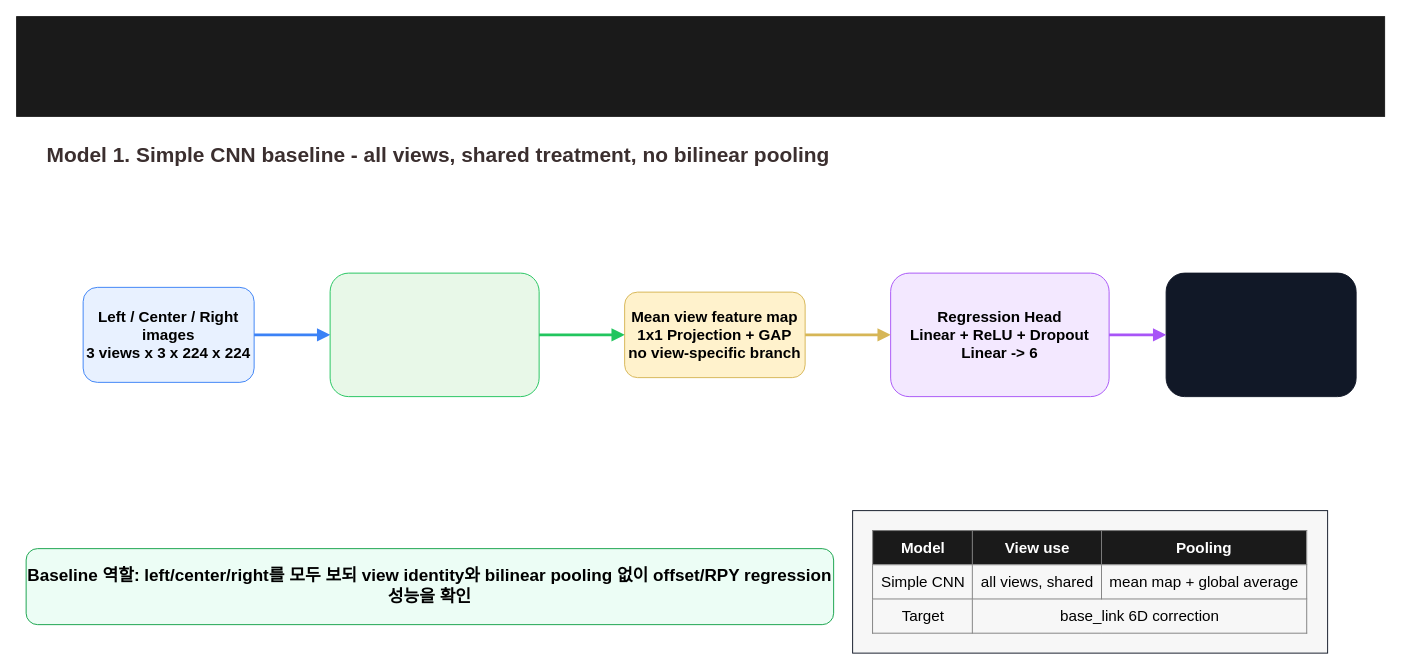
Image size: 1401x670. Some labels were removed from this diagram. The shapes that lost their labels are listed below. From the top down, each one's box as (x1, y1, x2, y2) in pixels, then its label:
(16, 16, 1385, 116): AIC Vision Offset Regression
(329, 272, 539, 397): Shared timm EfficientNetV2 same weights for every view feature map: C x H x W
(1165, 272, 1356, 397): Output label [dx, dy, dz, droll, dpitch, dyaw] base_link correction
